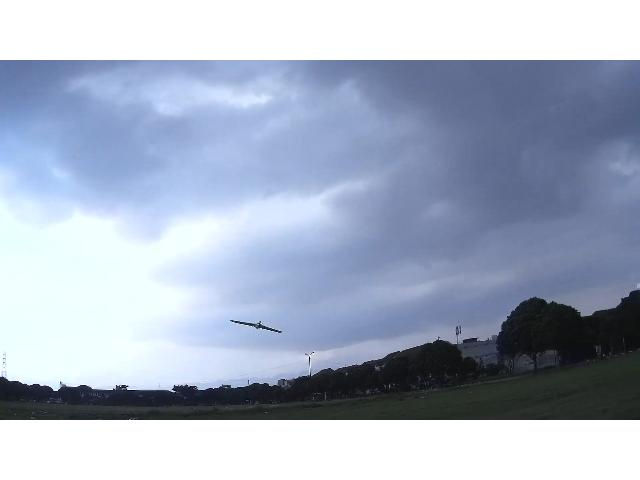Anti-Drone: (230, 320, 282, 332)
